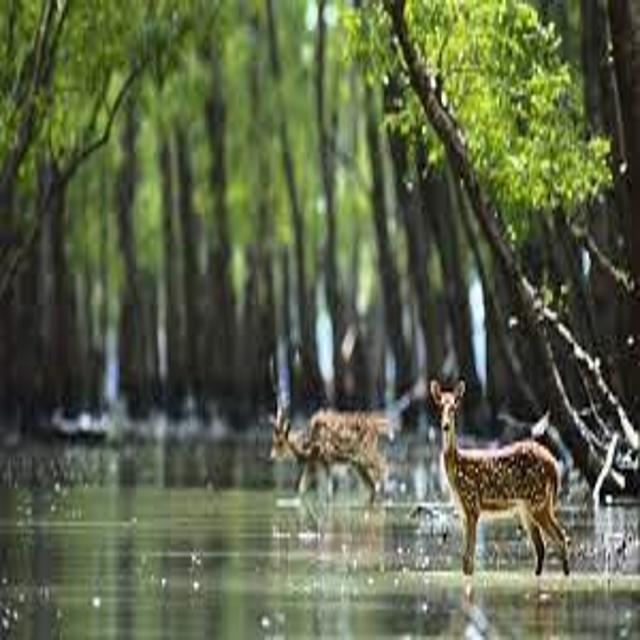deer: (408, 355, 610, 607), (238, 340, 421, 550)
